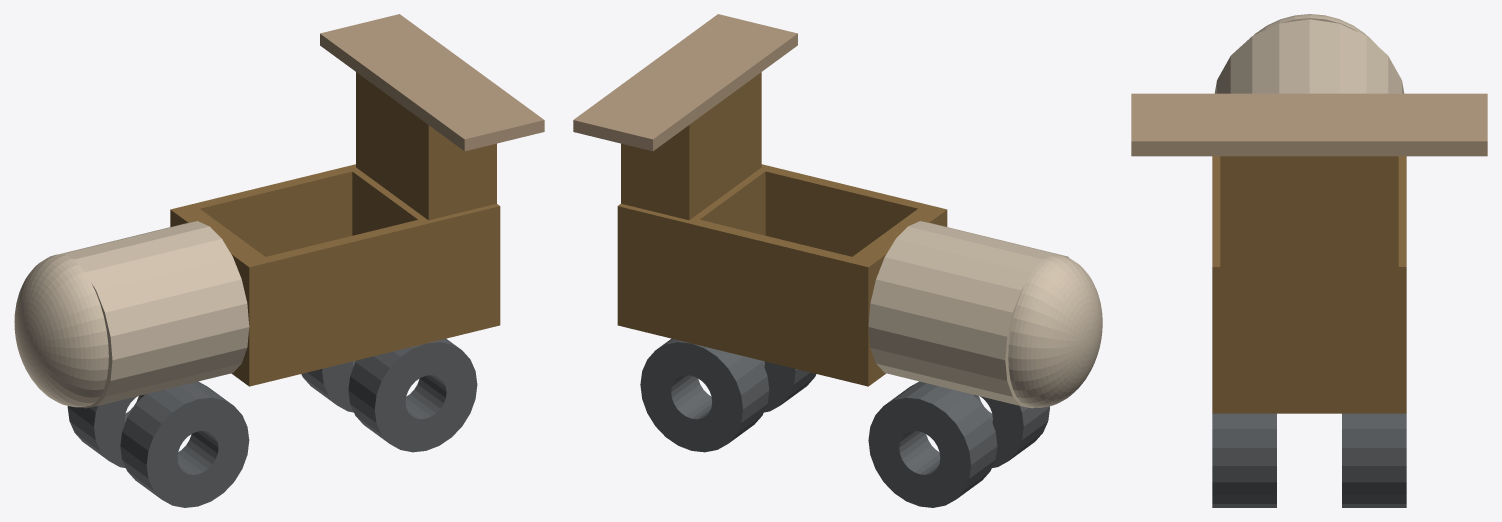
File: POGOnoob-1.glb
The picture shows the model from 3 angles, left to right: view 1: azimuth 30°, elevation 25°; view 2: azimuth 150°, elevation 25°; view 3: azimuth 270°, elevation 25°; orthographic projection. The views are drawn at different scales.
Parts seen in each view (by area): view 1: Mesh_Mesh_head_geo.001_lambert2SG.001; view 2: Mesh_Mesh_head_geo.001_lambert2SG.001; view 3: Mesh_Mesh_head_geo.001_lambert2SG.001.
Boxes of the visible parts, box(x1,y1,x2,y2) form: Mesh_Mesh_head_geo.001_lambert2SG.001: box(14, 14, 544, 507); Mesh_Mesh_head_geo.001_lambert2SG.001: box(573, 14, 1102, 507); Mesh_Mesh_head_geo.001_lambert2SG.001: box(1131, 14, 1487, 507).
Size of the model in its own units: 39 by 28 by 22.
